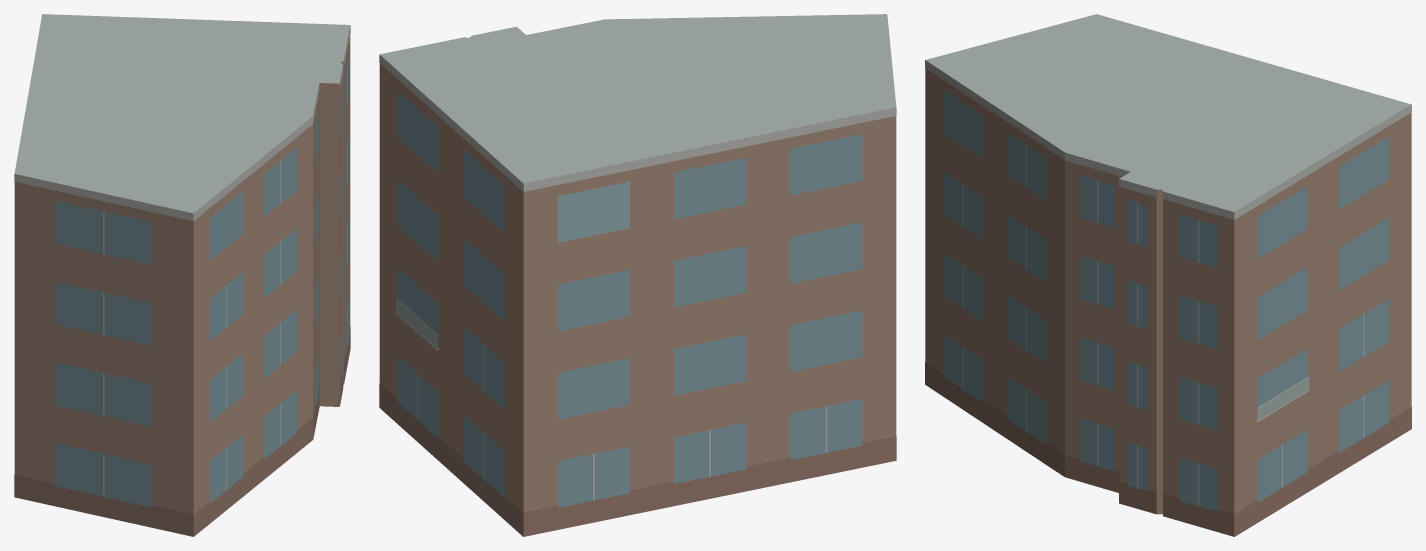
The model's file is survey-upis-32689519.glb.
3 renders of one model, left to right at view 1: azimuth 30°, elevation 25°; view 2: azimuth 150°, elevation 25°; view 3: azimuth 270°, elevation 25°, orthographic. The views are drawn at different scales.
Visible parts, largest first — view 1: survey-upis-32689519.tmp; view 2: survey-upis-32689519.tmp; view 3: survey-upis-32689519.tmp.
Part boxes in pixels (x1=…): survey-upis-32689519.tmp: x1=14, y1=14, x2=350, y2=536; survey-upis-32689519.tmp: x1=379, y1=14, x2=896, y2=536; survey-upis-32689519.tmp: x1=925, y1=14, x2=1411, y2=536.
Bounding box in the file's own units: 13.36 × 10.2 × 13.86.
